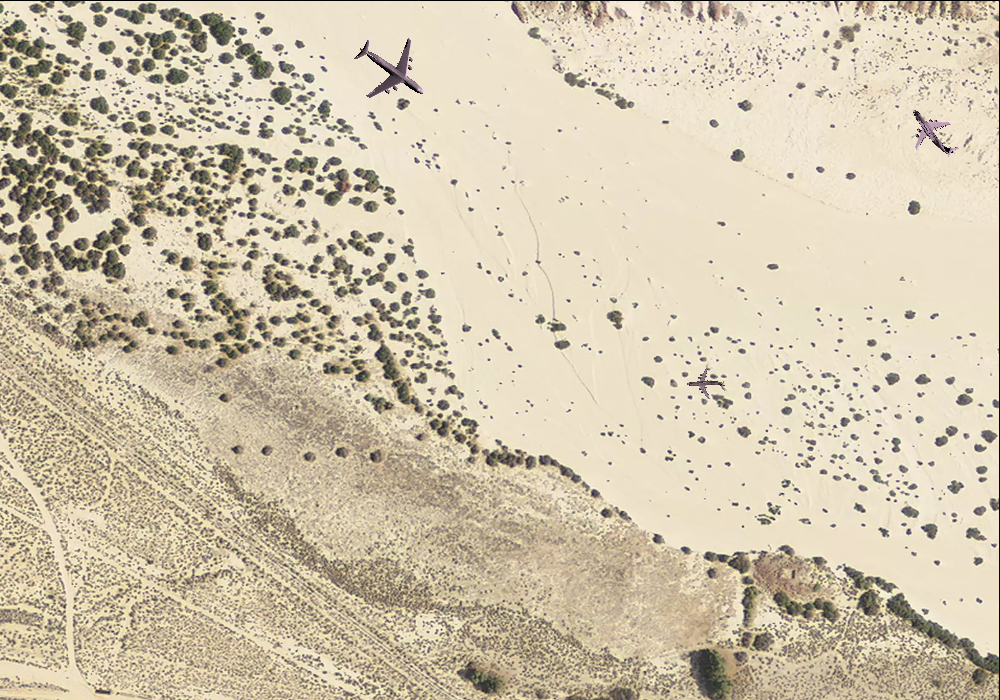plane: (338, 17, 444, 122), (894, 91, 973, 171), (686, 365, 726, 403)
